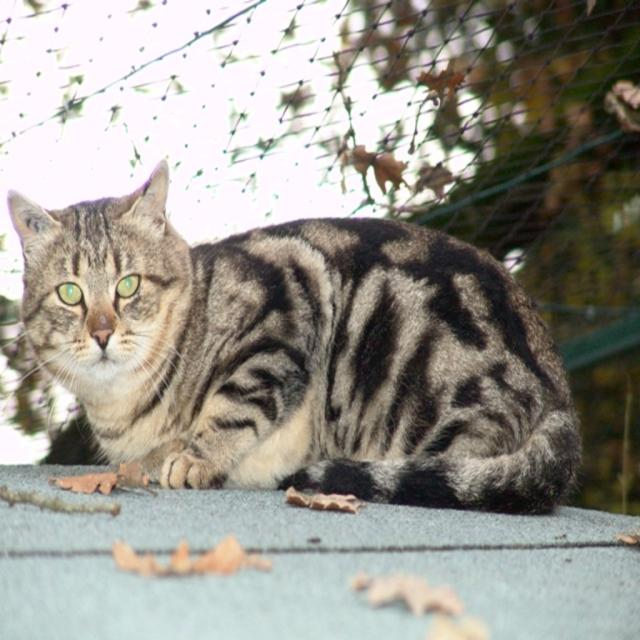Cat: (0, 155, 581, 519)
